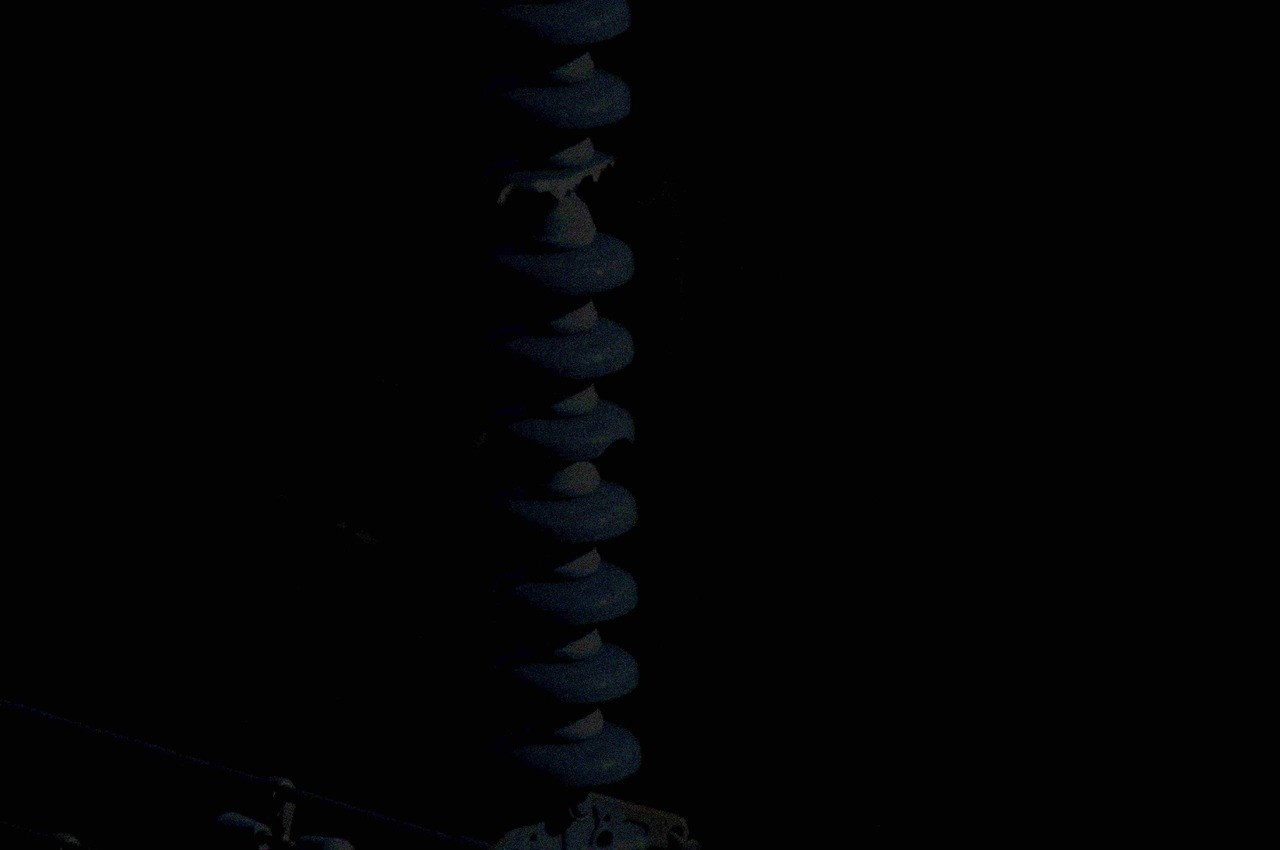Broken: (481, 383, 647, 464), (478, 130, 631, 209)
No issues: (487, 547, 643, 628), (488, 627, 642, 708), (490, 711, 644, 792), (487, 463, 641, 544), (484, 299, 638, 380), (481, 217, 635, 298), (481, 48, 635, 129), (480, 0, 632, 49)
String: (478, 1, 646, 792)
